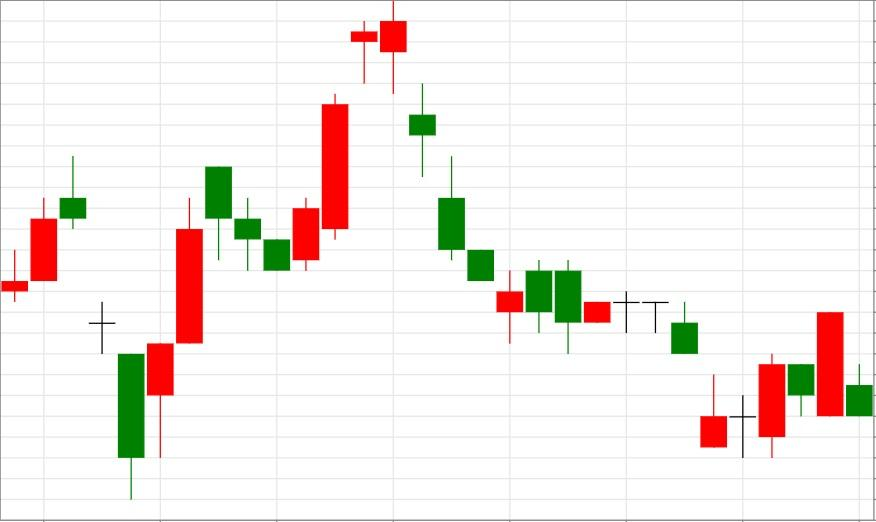three_black_crows_fall: (117, 166, 291, 499)
